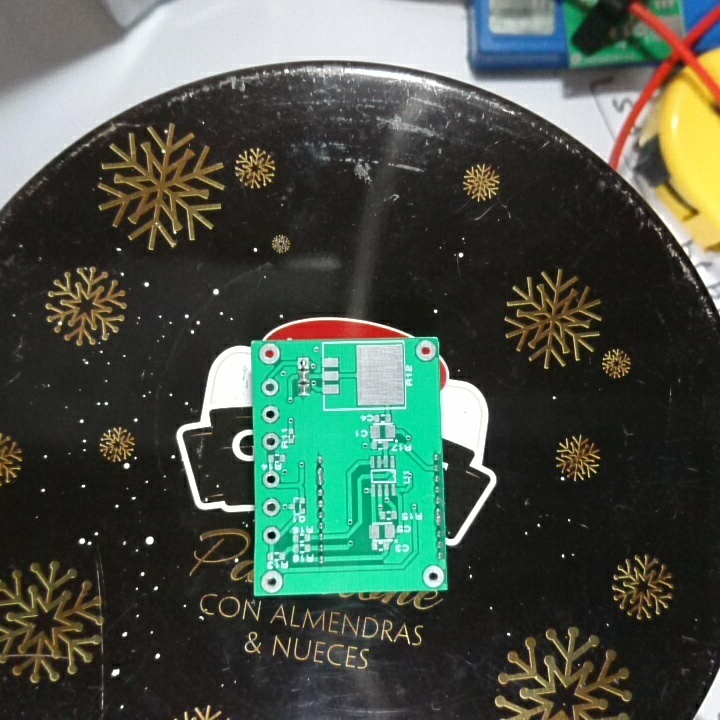F: (257, 340, 283, 369), (412, 338, 439, 365), (259, 569, 287, 595), (419, 564, 445, 589), (261, 431, 284, 453), (259, 377, 281, 398), (261, 498, 282, 520), (261, 403, 281, 426), (261, 469, 281, 492), (261, 525, 281, 548), (295, 355, 311, 370)
P: (313, 464, 327, 487), (432, 505, 443, 531)
